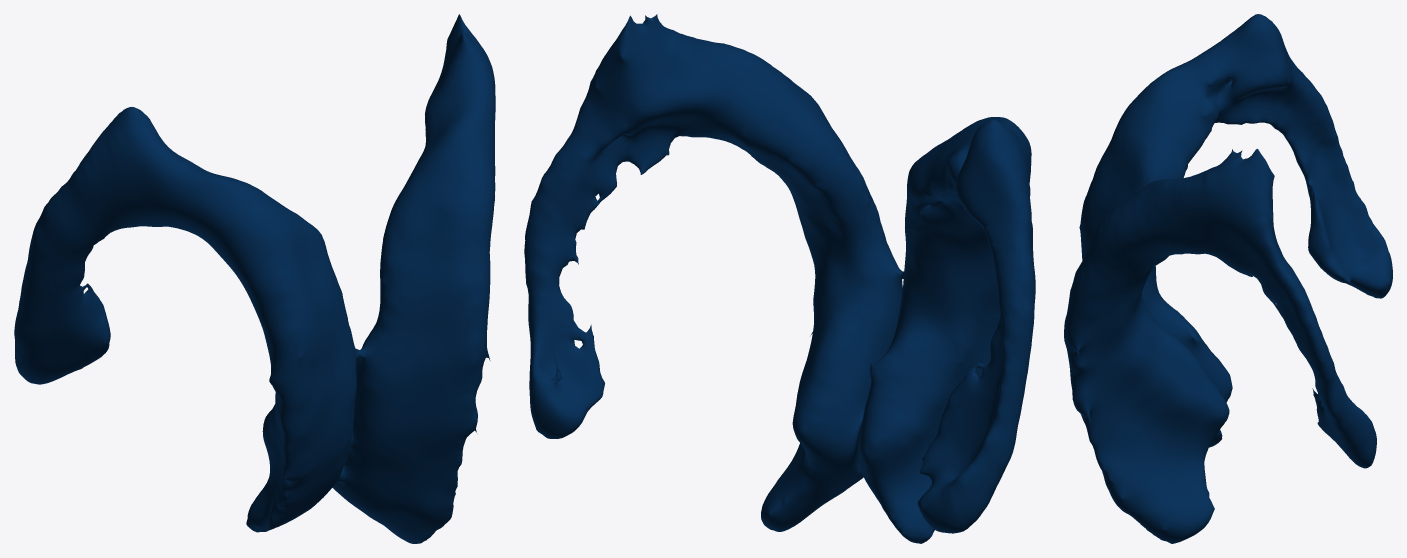
File: Ventricle.obj
3 renders of one model, left to right at view 1: azimuth 30°, elevation 25°; view 2: azimuth 150°, elevation 25°; view 3: azimuth 270°, elevation 25°, orthographic. The views are drawn at different scales.
Parts seen in each view (by area): view 1: grp1; view 2: grp1; view 3: grp1.
Part boxes in pixels (x1,y1,x2,y2): grp1: (14,14,495,543); grp1: (524,14,1035,543); grp1: (1064,14,1392,543).
Bounding box in the file's own units: 82.63 × 82.34 × 56.26.
